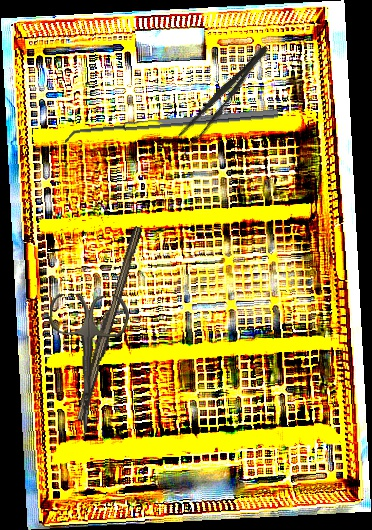Dressing Forceps: (169, 39, 275, 158)
Iris Scissors: (43, 293, 130, 439)
Scalpel Handle: (72, 223, 143, 424)
Spatula Surgical: (64, 109, 279, 145)
